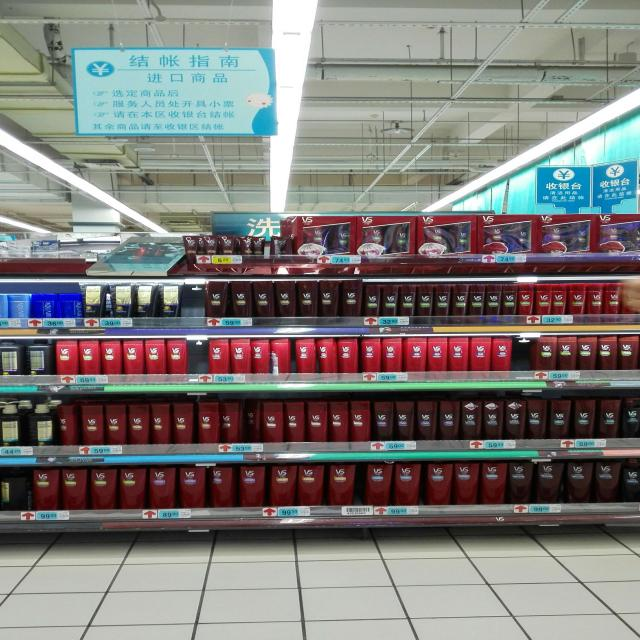void: (31, 243, 58, 284), (0, 244, 27, 284), (62, 241, 85, 286), (183, 285, 200, 327), (515, 339, 530, 379), (191, 339, 204, 384)
